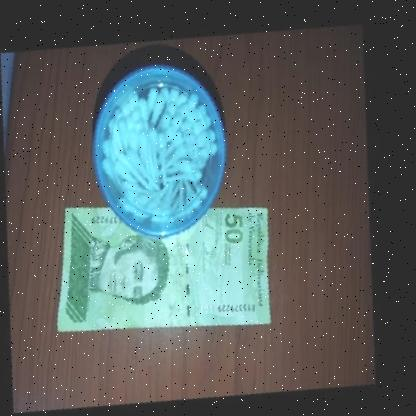fifty-front-vef: (54, 188, 292, 346)
